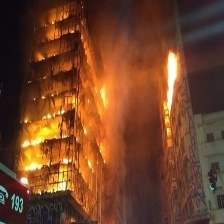fire: (20, 117, 74, 191), (164, 52, 179, 126), (95, 79, 110, 107), (85, 155, 97, 175), (80, 126, 89, 140)
smoke: (107, 24, 160, 175)
